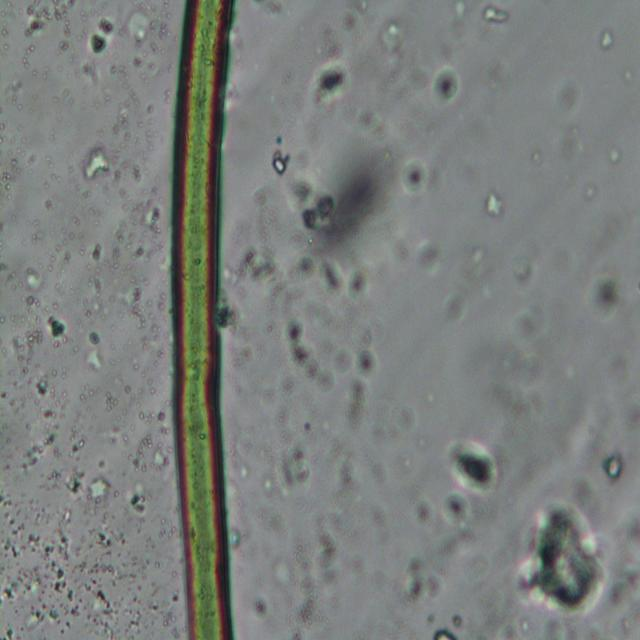Background material: (0, 510, 128, 640), (520, 492, 608, 621), (296, 150, 389, 256), (288, 508, 346, 636), (235, 238, 312, 308), (476, 304, 524, 416), (606, 500, 639, 640), (281, 318, 343, 392), (442, 440, 504, 498), (344, 346, 382, 434), (269, 435, 316, 506), (386, 546, 447, 600), (580, 257, 626, 319), (316, 436, 359, 501), (313, 10, 362, 66), (246, 183, 288, 248), (127, 0, 171, 53), (20, 0, 79, 35), (321, 262, 373, 298), (9, 325, 43, 379), (20, 426, 58, 473), (428, 53, 460, 108), (443, 483, 474, 537), (309, 62, 349, 101), (218, 285, 246, 340), (82, 138, 116, 182), (480, 174, 509, 222), (83, 475, 115, 518), (408, 230, 441, 271), (350, 105, 388, 139), (472, 0, 513, 29), (554, 74, 582, 116), (467, 244, 491, 290), (134, 192, 163, 230), (404, 155, 430, 196), (424, 616, 468, 640), (86, 21, 115, 57), (126, 284, 148, 328), (513, 250, 539, 285), (22, 262, 50, 294), (600, 453, 628, 483), (0, 487, 26, 518), (109, 219, 135, 250), (110, 106, 131, 143), (250, 589, 274, 621), (446, 0, 469, 33), (269, 147, 293, 177), (134, 432, 152, 472), (44, 315, 67, 346), (382, 21, 404, 53), (0, 157, 22, 189), (446, 294, 470, 323), (132, 486, 152, 518), (418, 494, 436, 528), (157, 512, 176, 544), (77, 296, 101, 319), (20, 39, 38, 69), (150, 442, 166, 475), (604, 144, 626, 168), (65, 436, 85, 460), (86, 348, 106, 371), (68, 470, 84, 498), (46, 469, 64, 491), (107, 250, 122, 276), (8, 94, 27, 114), (102, 388, 117, 413), (34, 374, 50, 397), (157, 288, 171, 314), (91, 242, 105, 267), (87, 204, 101, 228), (602, 26, 616, 49), (84, 61, 98, 84), (110, 63, 130, 79), (87, 274, 103, 294), (24, 296, 44, 312), (158, 410, 170, 436), (131, 593, 143, 619), (57, 507, 75, 524), (131, 164, 145, 185), (4, 272, 20, 290), (26, 231, 48, 244), (152, 348, 166, 368), (0, 10, 10, 37), (53, 390, 67, 409), (73, 412, 85, 433), (138, 413, 154, 428), (124, 619, 139, 634), (49, 173, 65, 186), (95, 454, 106, 472), (56, 42, 71, 55), (87, 330, 99, 346), (12, 75, 23, 92), (134, 243, 146, 258), (133, 53, 143, 70), (128, 87, 138, 103), (0, 628, 13, 640), (24, 153, 37, 165), (0, 39, 11, 53), (59, 363, 68, 380), (42, 411, 58, 420), (45, 153, 54, 169), (0, 120, 6, 144), (42, 201, 56, 211), (147, 377, 155, 393), (148, 129, 154, 150), (0, 260, 10, 272), (113, 172, 122, 185), (0, 213, 5, 236), (145, 104, 153, 118), (55, 286, 65, 297), (70, 344, 78, 357), (166, 89, 172, 105), (6, 461, 14, 473), (79, 392, 87, 404), (170, 594, 180, 603), (60, 88, 70, 97), (64, 254, 73, 264), (150, 604, 160, 612), (111, 424, 119, 434), (0, 389, 7, 400), (14, 146, 23, 154), (74, 220, 82, 229), (122, 432, 128, 444), (60, 239, 70, 246), (51, 95, 59, 103), (48, 368, 56, 376), (126, 384, 132, 394), (54, 245, 61, 253), (42, 183, 50, 190), (47, 264, 53, 273), (0, 315, 6, 322), (32, 69, 36, 77)
Microfibre: (168, 0, 244, 640)
